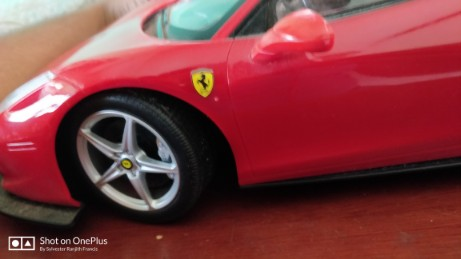unaligned_wheel: (50, 87, 232, 229)
